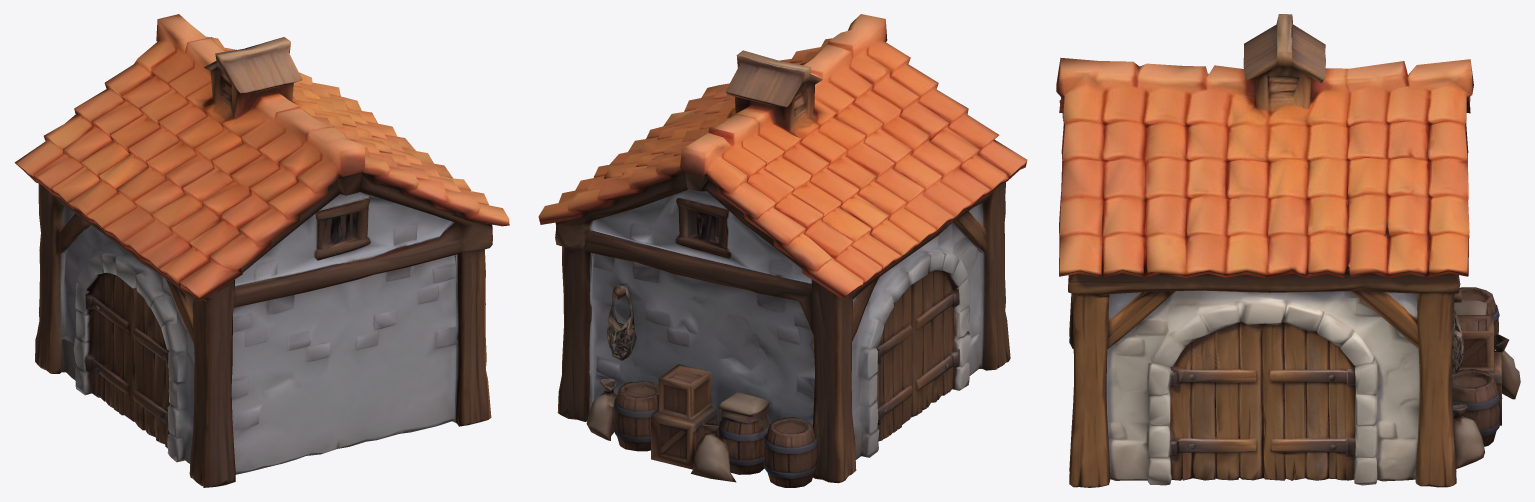
File: storehouse_1k.glb
3 views of the same model, side by side, from view 1: azimuth 30°, elevation 25°; view 2: azimuth 150°, elevation 25°; view 3: azimuth 270°, elevation 25° (orthographic). The views are drawn at different scales.
Visible parts, largest first — view 1: tripo_node_44165c0b-c698-444f-b3fe-088ca30295ef; view 2: tripo_node_44165c0b-c698-444f-b3fe-088ca30295ef; view 3: tripo_node_44165c0b-c698-444f-b3fe-088ca30295ef.
Part boxes in pixels (bbox=[...]): tripo_node_44165c0b-c698-444f-b3fe-088ca30295ef: bbox=[14, 14, 509, 487]; tripo_node_44165c0b-c698-444f-b3fe-088ca30295ef: bbox=[538, 14, 1027, 487]; tripo_node_44165c0b-c698-444f-b3fe-088ca30295ef: bbox=[1056, 14, 1520, 487].
Size of the model in its own units: 0.8677 by 0.8828 by 0.981.
Materials: 1 (1 with a texture image).
